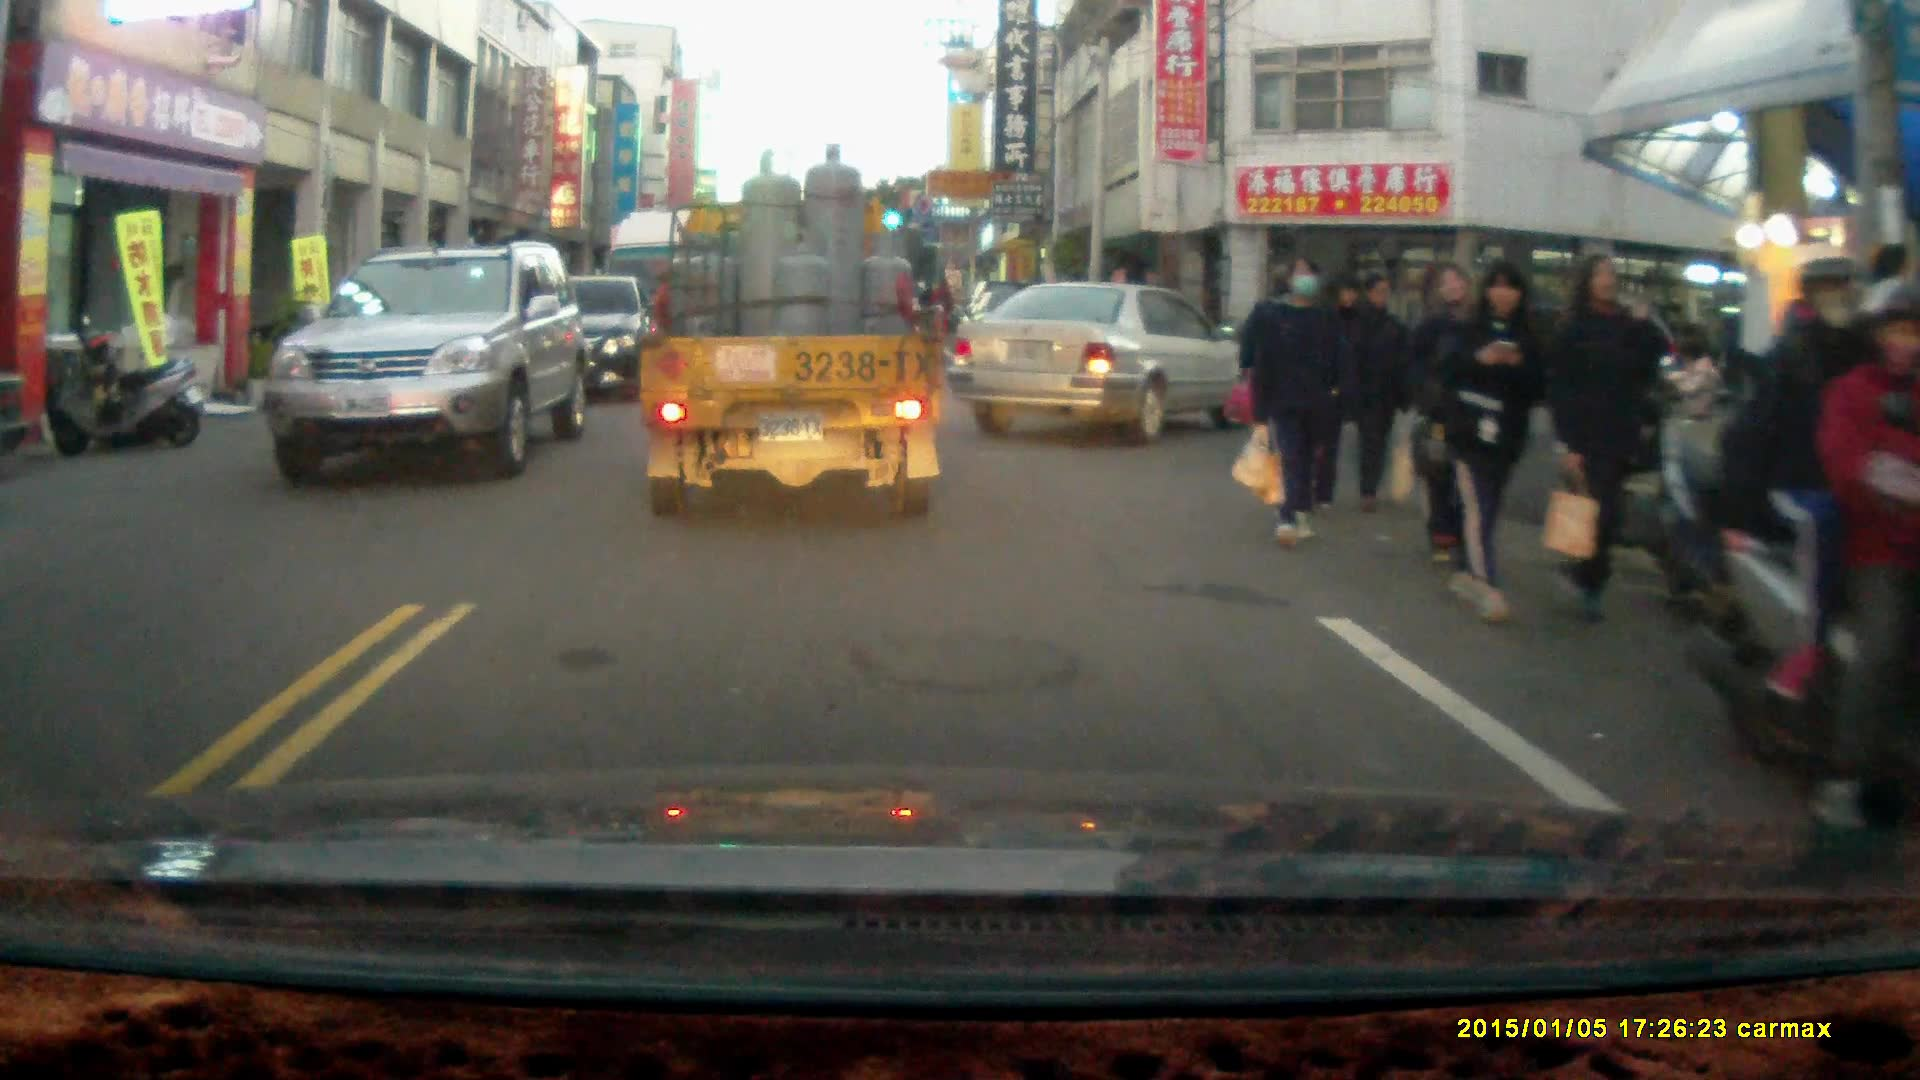pedestrian: (1548, 253, 1658, 631), (1439, 259, 1547, 631), (1249, 260, 1337, 554), (1338, 269, 1416, 516)
rider: (1691, 240, 1920, 827)
vehicle: (638, 144, 956, 525), (265, 244, 588, 489), (950, 280, 1277, 444), (477, 270, 663, 409)
